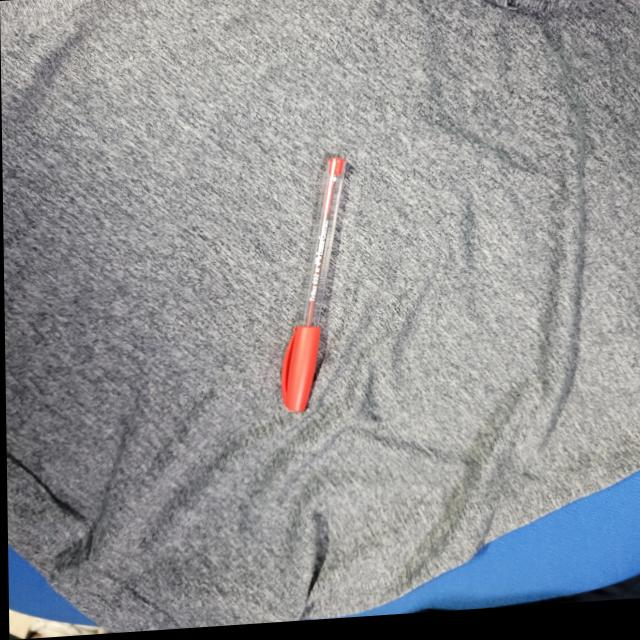caneta: (254, 143, 366, 417)
